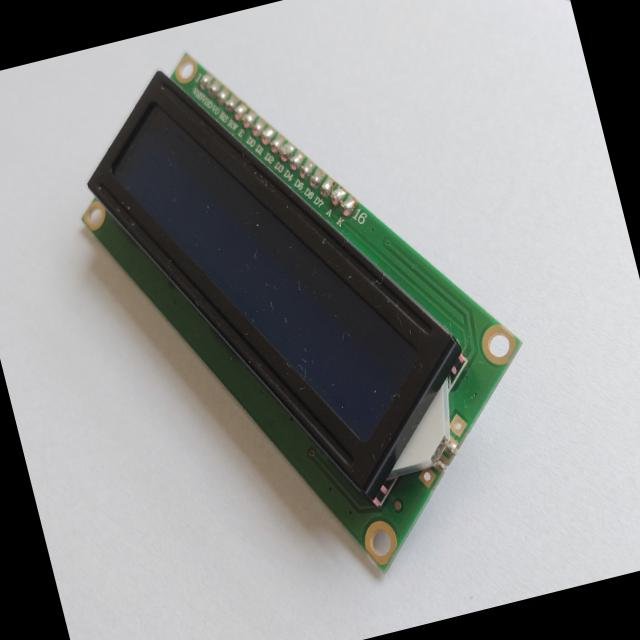lcd: (30, 0, 591, 640)
